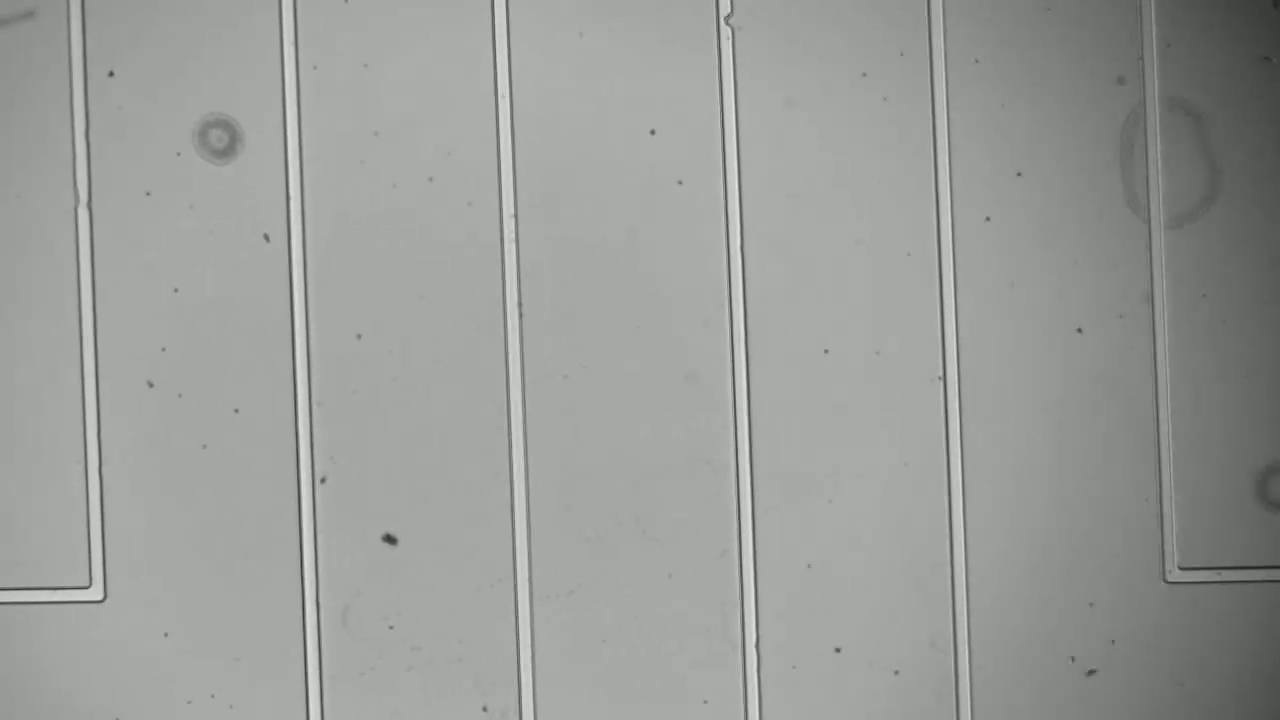edge_bite: (712, 4, 739, 33)
